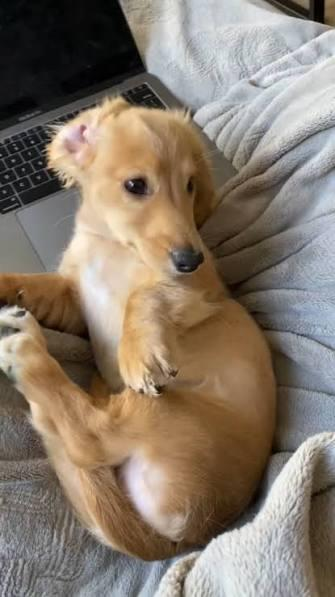adult_dog: (0, 96, 274, 558)
